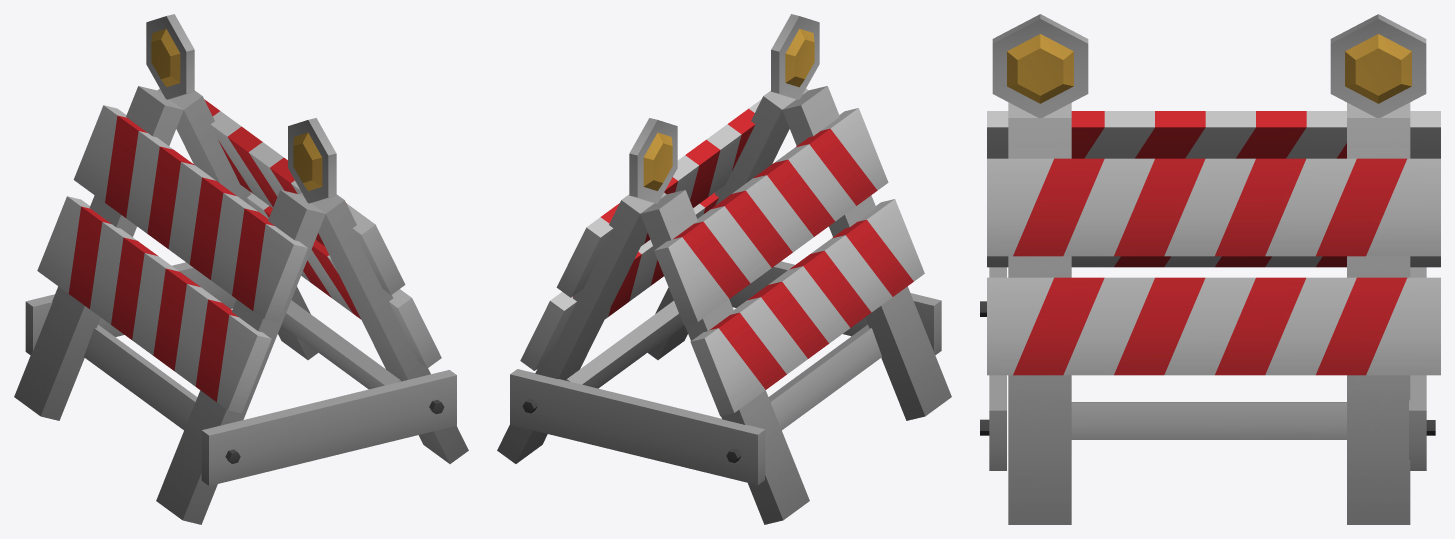
Rendered from thing.fbx.
3 views of the same model, side by side, from view 1: azimuth 30°, elevation 25°; view 2: azimuth 150°, elevation 25°; view 3: azimuth 270°, elevation 25° (orthographic). The views are drawn at different scales.
Visible parts, largest first — view 1: thing; view 2: thing; view 3: thing.
Boxes of the visible parts, bbox=[...] form: thing: bbox=[14, 14, 468, 524]; thing: bbox=[497, 14, 951, 524]; thing: bbox=[980, 14, 1440, 524].
Size of the model in its own units: 130 by 159 by 152.
1 material, 1 textured.
